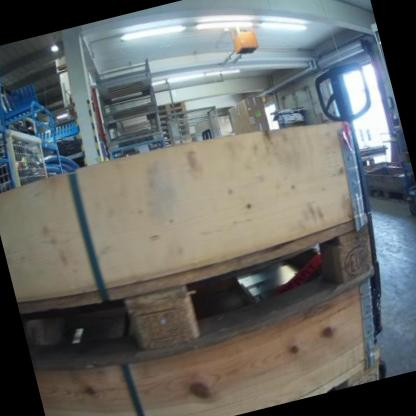pallet: (16, 212, 389, 385), (108, 348, 386, 416), (368, 180, 407, 207), (155, 96, 186, 111), (158, 104, 189, 118), (159, 115, 190, 129), (161, 122, 192, 136), (158, 111, 190, 123), (163, 129, 191, 142), (165, 136, 192, 148)
pallet_truck: (310, 58, 416, 338)
stillage: (0, 115, 51, 190), (91, 51, 158, 100), (100, 107, 165, 148), (96, 82, 160, 122), (106, 134, 165, 163)
